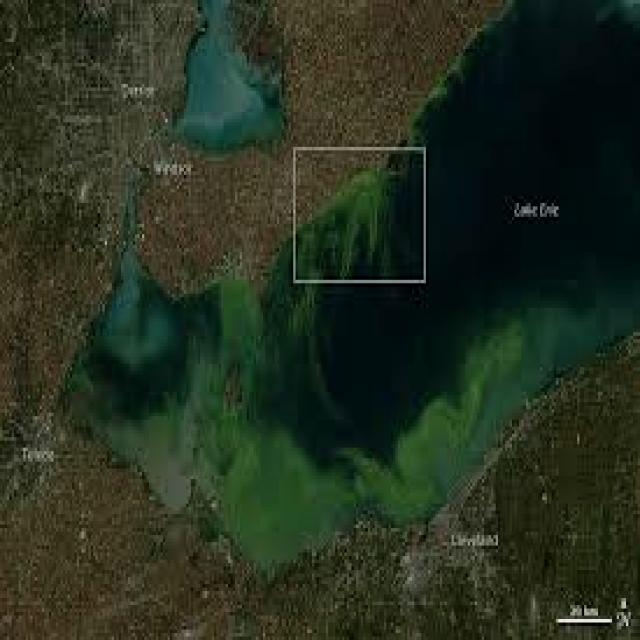algal: (70, 0, 637, 563), (177, 0, 281, 153)
